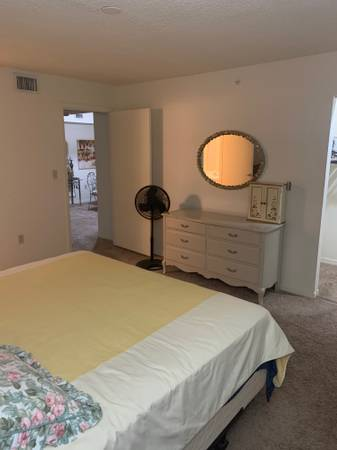bed: (1, 251, 272, 450)
dresser: (160, 209, 282, 304)
